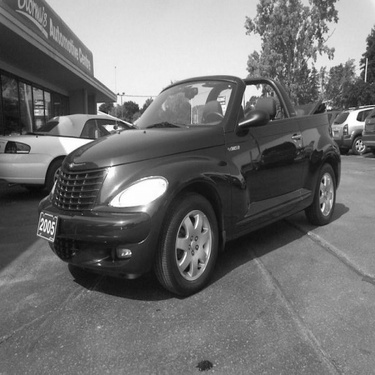car: (21, 67, 346, 306), (2, 106, 137, 194), (325, 97, 372, 158), (358, 98, 371, 155)
